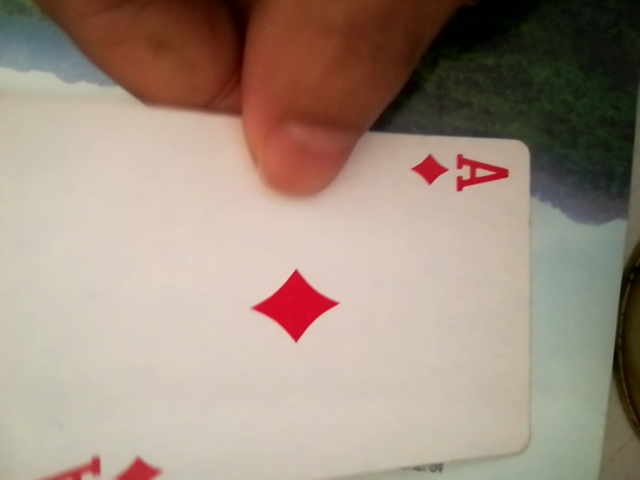fk a: (3, 92, 552, 476)
